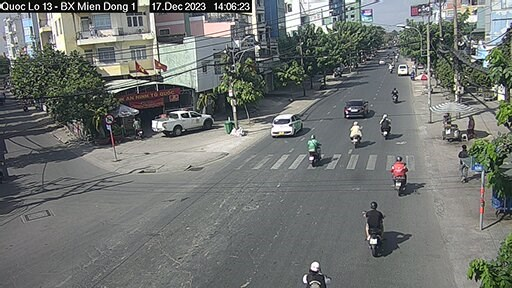car: (150, 110, 216, 137), (266, 113, 307, 138), (339, 98, 372, 120), (397, 64, 410, 80)
motorbike: (362, 201, 389, 254), (384, 154, 413, 198), (303, 136, 326, 168), (349, 126, 365, 146), (380, 114, 391, 138), (390, 88, 401, 105)
